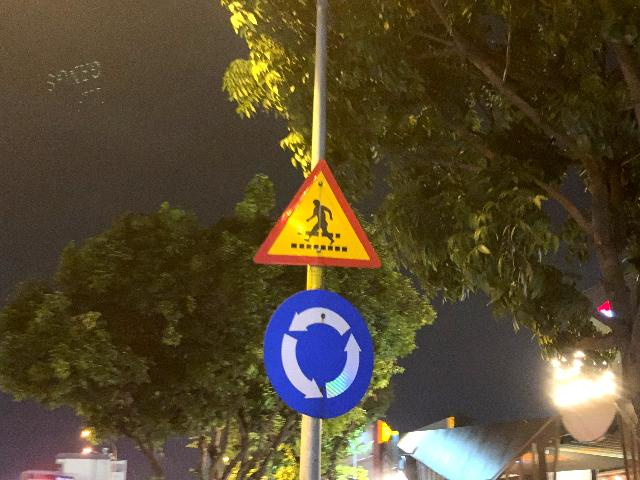duong-nguoi-di-bo-cat-ngang: (253, 157, 381, 269)
noi-giao-nhau-chay-theo-vong-xuyen: (263, 287, 375, 420)
